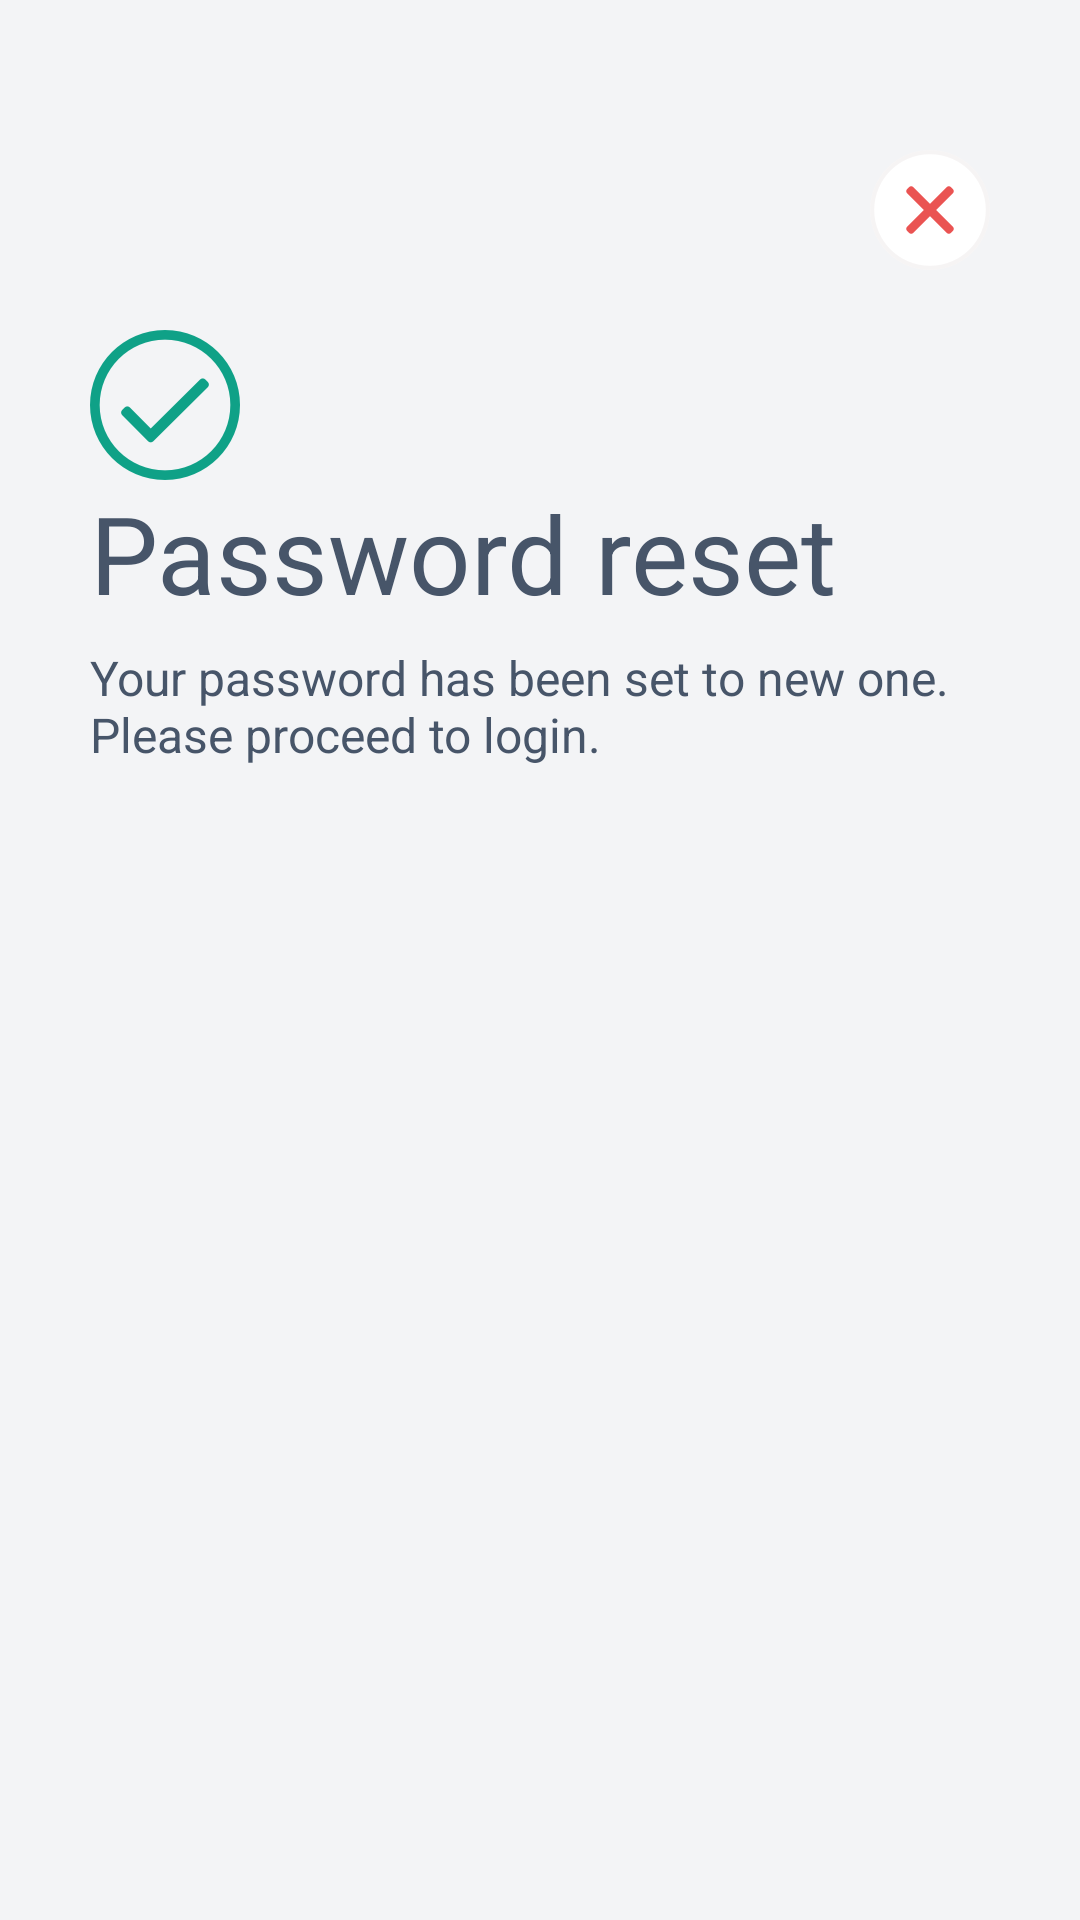

Screen size 1080px x 1920px. Icon name, then its box in pixels as (x1, y1, x2, y2):
check circle: (90, 330, 240, 480)
close: (874, 154, 986, 266)
